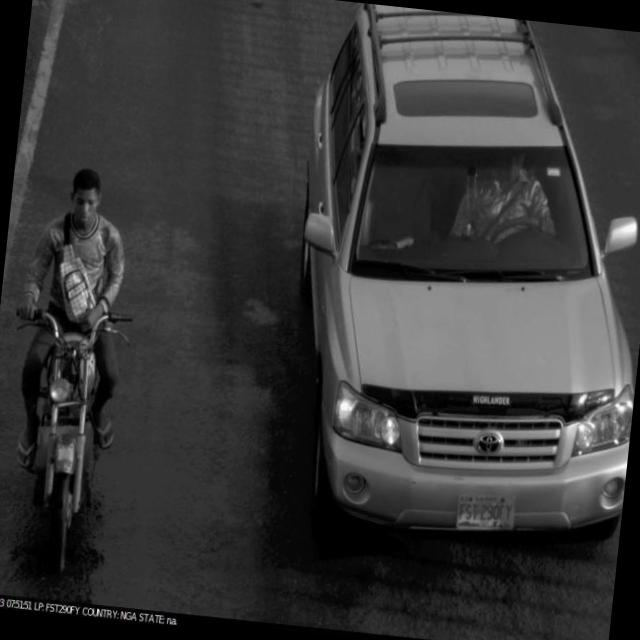person_with_seatbelt: (438, 131, 564, 296)
